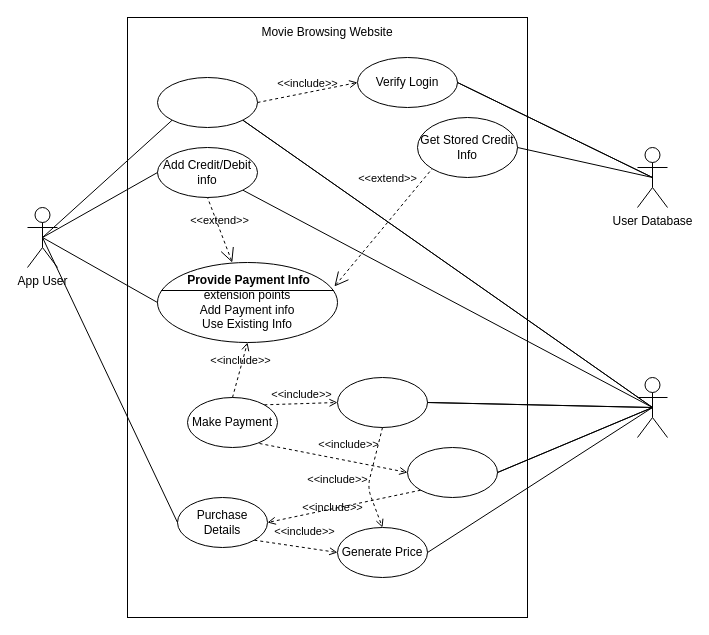
The diagram is 709 pixels wide and 635 high, and some of its shapes have lost their labels. Here are the shapes that lost their labels. From the top down, the centre of each, then its label:
At (x=207, y=102): "Log in".
At (x=382, y=402): "Process Billing".
At (x=652, y=407): "Domain".
At (x=452, y=472): "Send Email".
